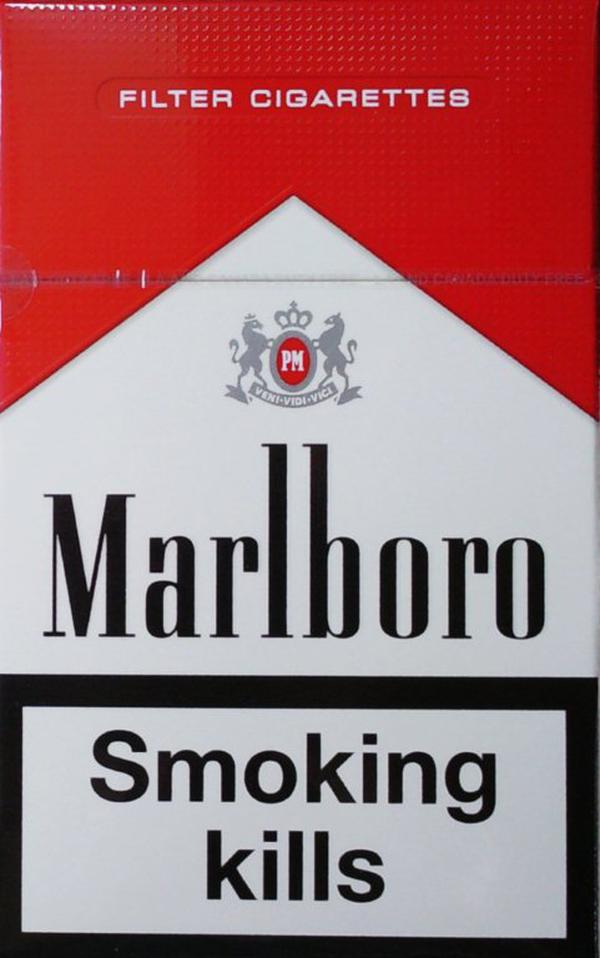marlboro_red: (3, 5, 595, 956)
